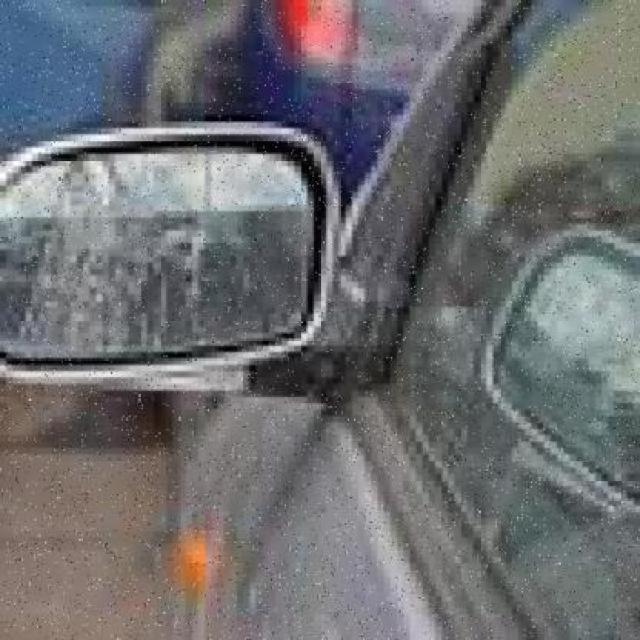Sidemirror-Damage: (0, 114, 340, 398)
